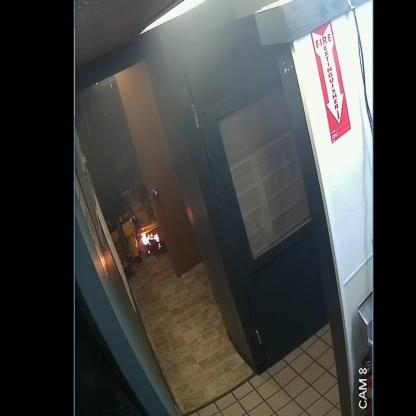fire: (142, 230, 159, 244)
